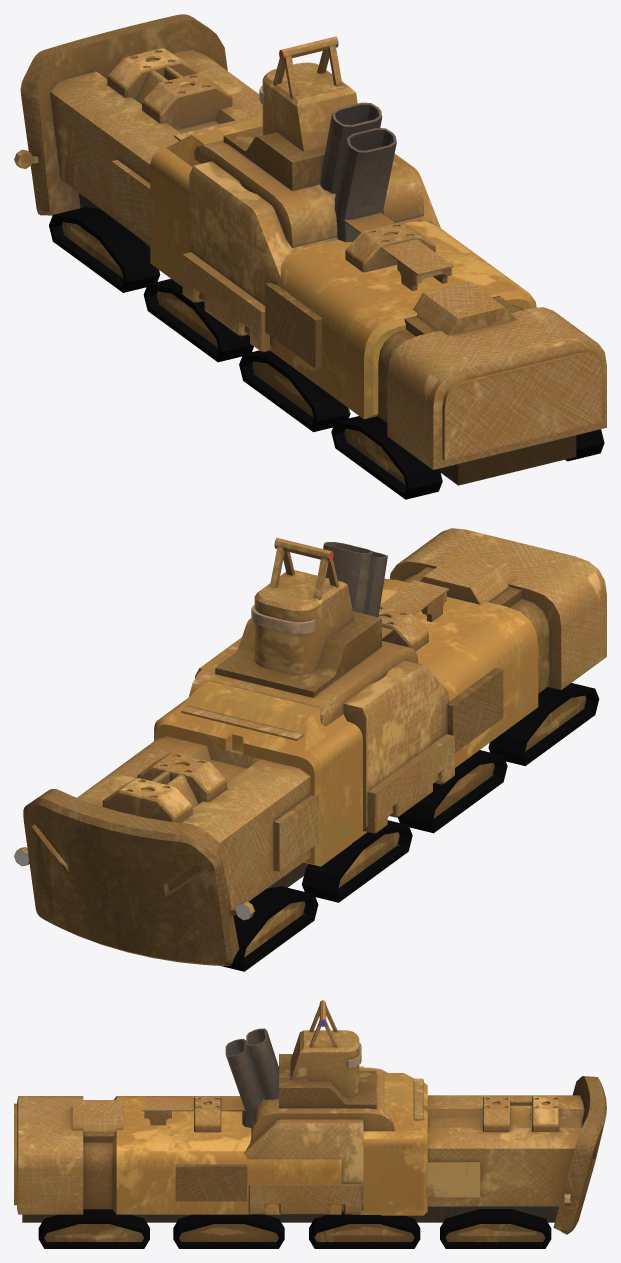
File: landship.fbx
The picture shows the model from 3 angles, top to bottom: view 1: azimuth 30°, elevation 25°; view 2: azimuth 150°, elevation 25°; view 3: azimuth 270°, elevation 25°; orthographic projection. The views are drawn at different scales.
Visible parts, largest first — view 1: greeblekit.795; view 2: greeblekit.795; view 3: greeblekit.795.
Boxes of the visible parts, x1=… form: greeblekit.795: x1=14, y1=14, x2=606, y2=499; greeblekit.795: x1=14, y1=528, x2=606, y2=971; greeblekit.795: x1=14, y1=1000, x2=606, y2=1248.
Size of the model in its own units: 11516 by 13393 by 34917.
1 material, 1 textured.
